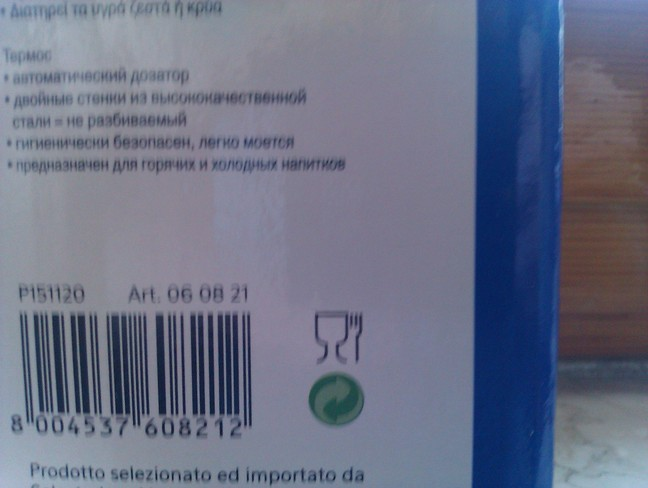barcode: (5, 302, 264, 448)
